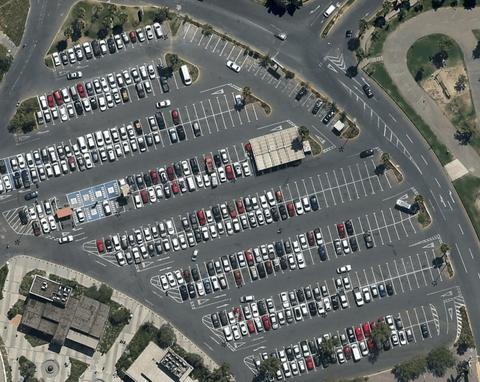parkingspot: (94, 156, 388, 257), (115, 169, 400, 268), (157, 197, 420, 293), (0, 101, 269, 194), (178, 214, 425, 304), (0, 90, 246, 177), (209, 246, 447, 331), (221, 263, 451, 345), (175, 20, 339, 128), (252, 304, 436, 372), (264, 320, 440, 382), (34, 67, 194, 131), (122, 156, 264, 213), (115, 140, 257, 197), (36, 57, 166, 112), (50, 20, 173, 72), (70, 196, 126, 227), (66, 180, 121, 211), (30, 215, 60, 238), (26, 198, 54, 222)
